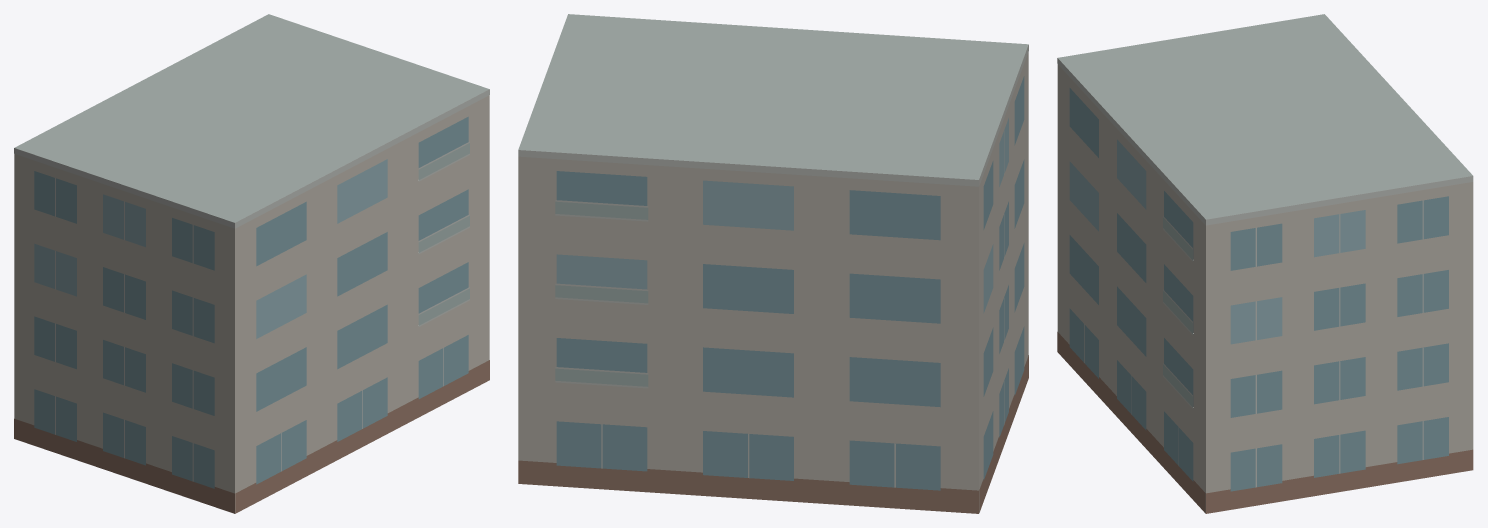
The model's file is residential-559eda04-3e46-4a87-80ec-3298f1efeeba.glb.
3 views of the same model, side by side, from view 1: azimuth 30°, elevation 25°; view 2: azimuth 150°, elevation 25°; view 3: azimuth 270°, elevation 25° (orthographic). The views are drawn at different scales.
Parts seen in each view (by area): view 1: residential-559eda04-3e46-4a87-80ec-3298f1efeeba.tmp; view 2: residential-559eda04-3e46-4a87-80ec-3298f1efeeba.tmp; view 3: residential-559eda04-3e46-4a87-80ec-3298f1efeeba.tmp.
Boxes of the visible parts, bbox=[...] form: residential-559eda04-3e46-4a87-80ec-3298f1efeeba.tmp: bbox=[14, 14, 489, 513]; residential-559eda04-3e46-4a87-80ec-3298f1efeeba.tmp: bbox=[518, 14, 1028, 513]; residential-559eda04-3e46-4a87-80ec-3298f1efeeba.tmp: bbox=[1057, 14, 1473, 513].
Bounding box in the file's own units: 18.3 × 12.2 × 15.64.
